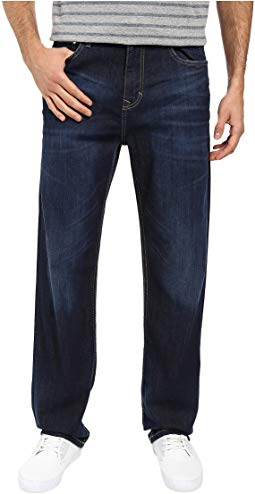jeans: (24, 35, 207, 439)
